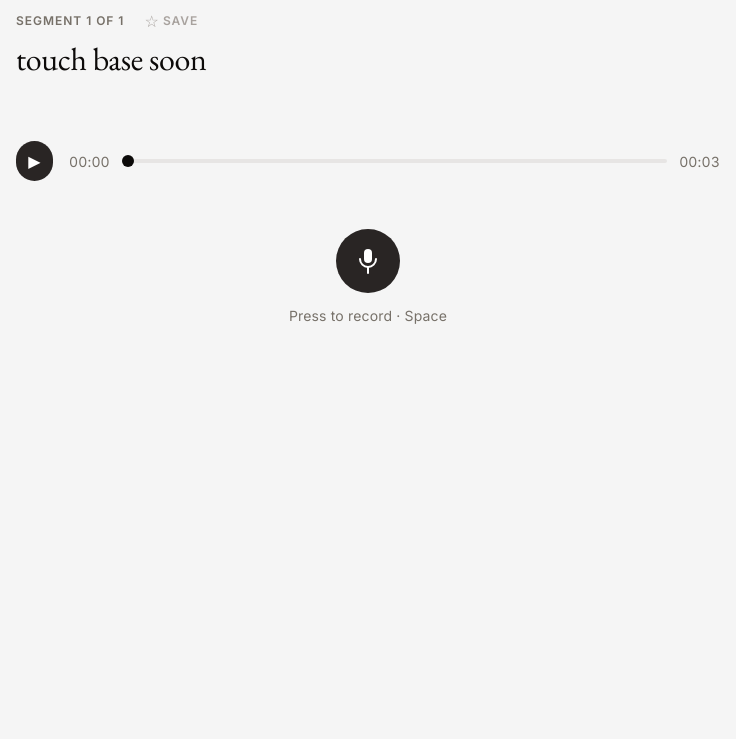
it: ShadowSession — auto-loop countdown › shows the Hold control after a recording cycle reaches scored state
This screenshot has width=736, height=739.
Check: the text "Hold" is not shown
Click the button named "Start recording": (368, 261) top-left (336, 229), bottom-right (400, 293)
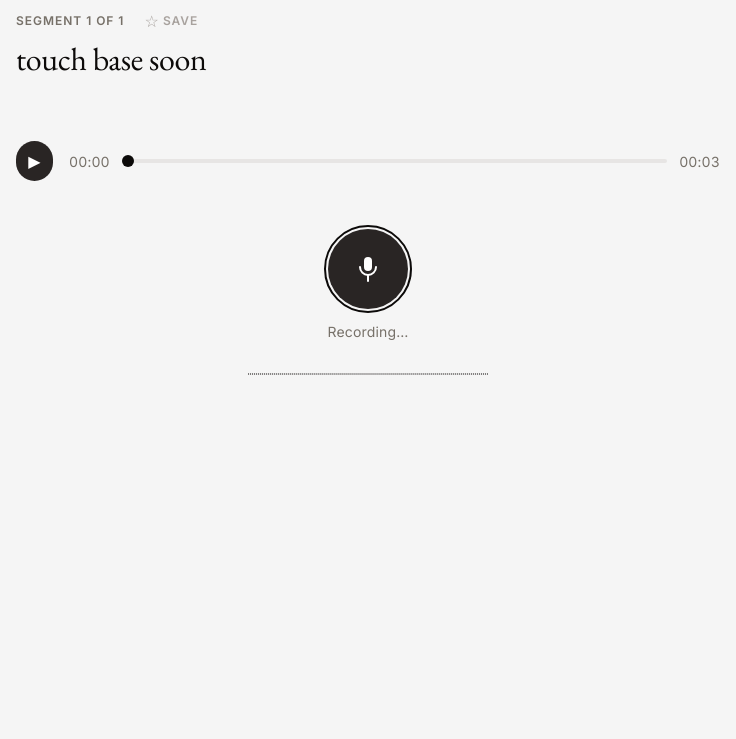
Click the button named "Stop recording": (368, 269) top-left (328, 229), bottom-right (408, 309)
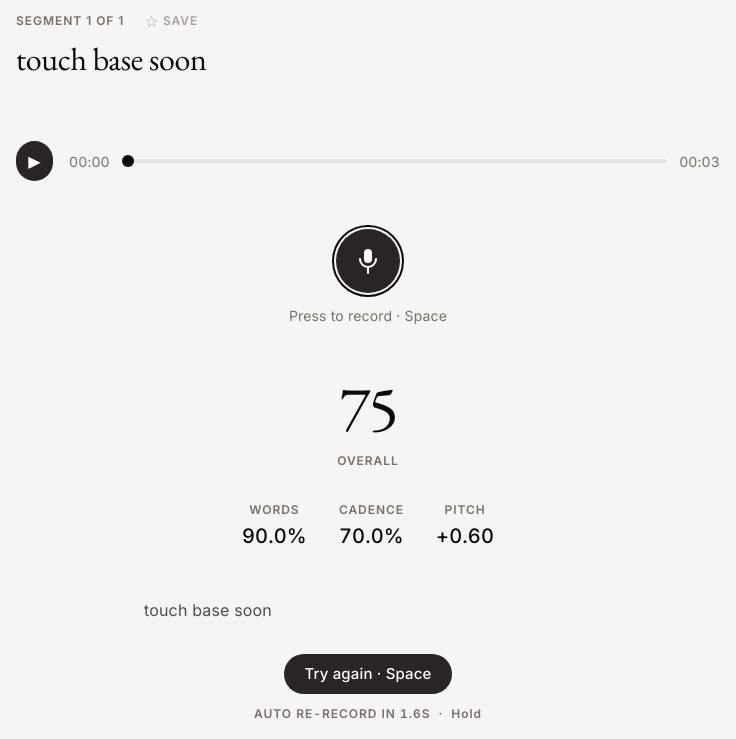
Check: the text "Hold" is shown, box top-left (451, 706), bottom-right (482, 723)
